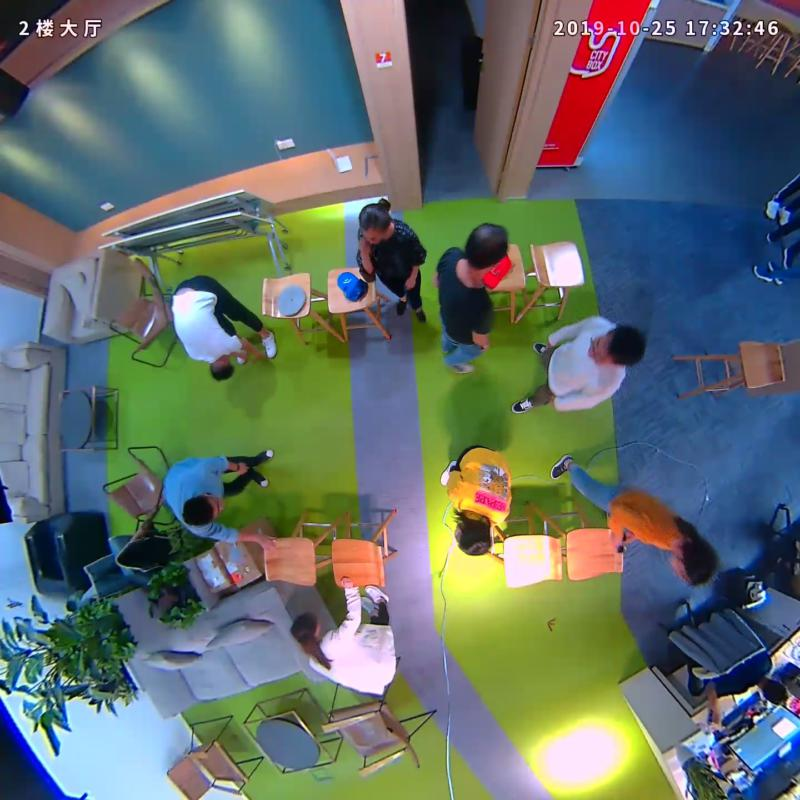head: (583, 321, 651, 373), (454, 217, 513, 276), (669, 530, 723, 589), (449, 510, 497, 560), (352, 196, 395, 247), (178, 491, 223, 528), (283, 610, 324, 649), (195, 356, 242, 388)
